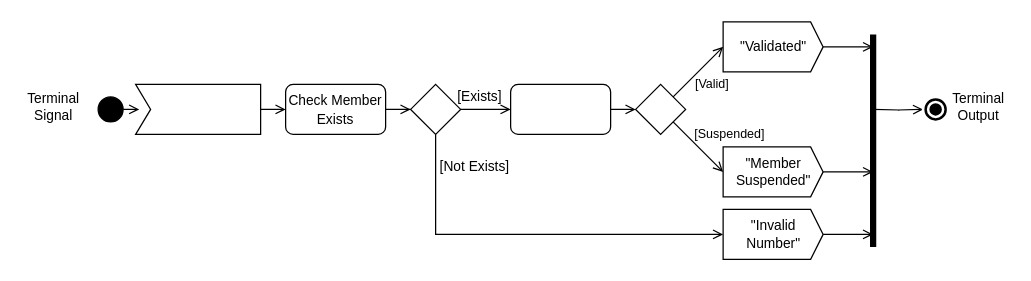
The diagram is 1031 pixels wide and 281 high, and some of its shapes have lost their labels. The centre of each missing label's shape, as x and y in pixels:
Check Member Status: the point at 560,108
Member Number: the point at 197,108
